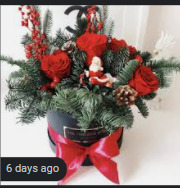RedRose: (76, 29, 112, 67), (38, 50, 72, 84), (130, 65, 160, 98)
